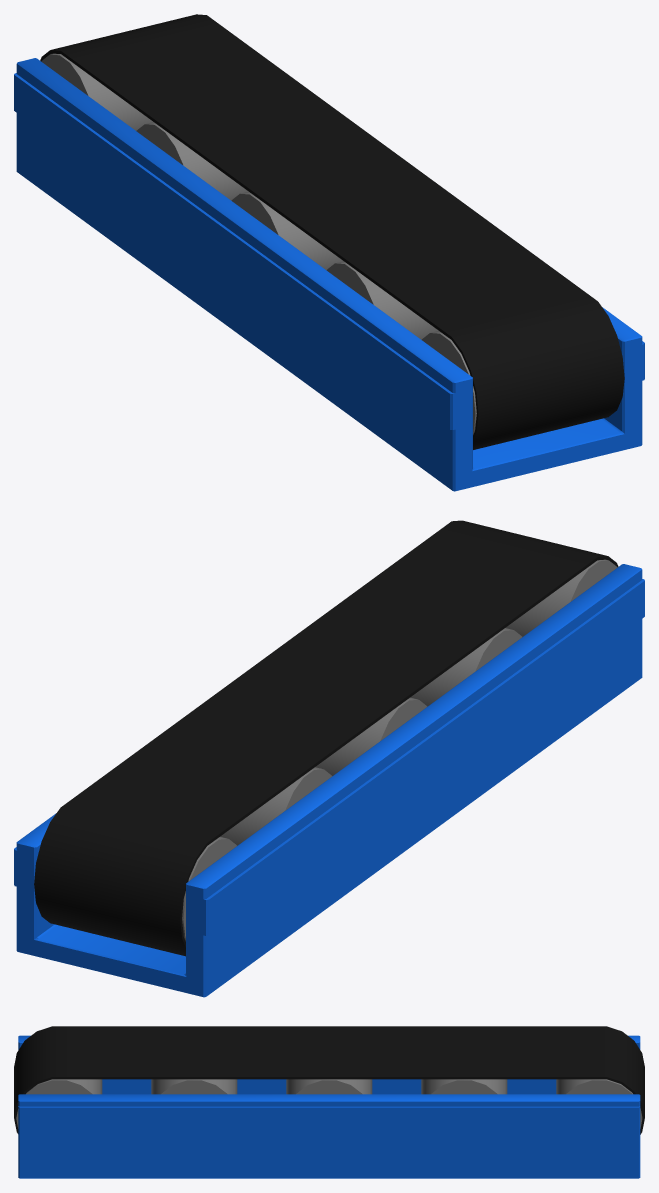
File: conveyor-1x4.fbx
The picture shows the model from 3 angles, top to bottom: view 1: azimuth 30°, elevation 25°; view 2: azimuth 150°, elevation 25°; view 3: azimuth 270°, elevation 25°; orthographic projection. The views are drawn at different scales.
Parts seen in each view (by area): view 1: belt, case, roller; view 2: belt, case, roller; view 3: case, belt, roller.
Boxes of the visible parts, x1=… form: belt: x1=40, y1=14, x2=624, y2=449; case: x1=14, y1=58, x2=644, y2=491; roller: x1=41, y1=53, x2=476, y2=434; belt: x1=34, y1=520, x2=618, y2=956; case: x1=14, y1=564, x2=644, y2=997; roller: x1=182, y1=559, x2=617, y2=941; case: x1=18, y1=1035, x2=640, y2=1178; belt: x1=14, y1=1026, x2=644, y2=1134; roller: x1=16, y1=1079, x2=642, y2=1128.
Bounding box in the file's own units: 103 × 67.1 × 406.
